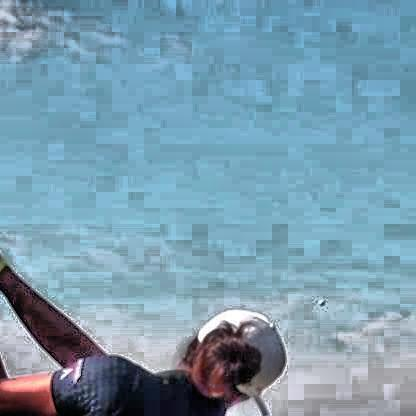golfball: (315, 296, 323, 303)
